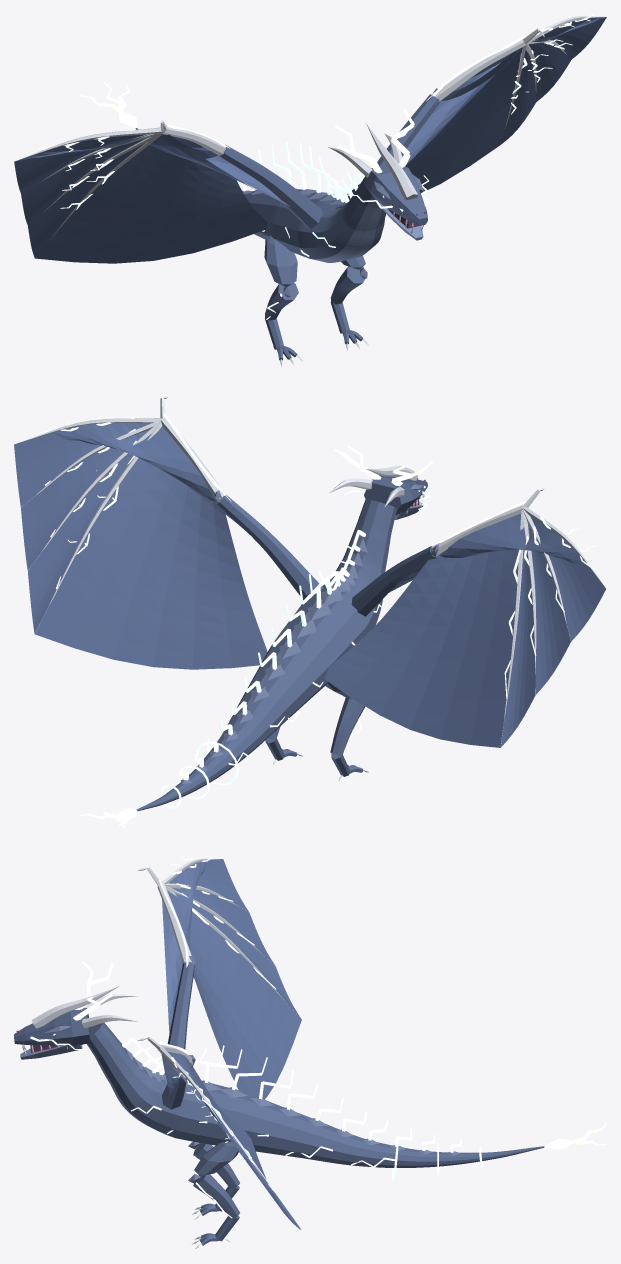
Rendered from Wyverne_Tempete_v1.glb.
3 views of the same model, one above another, from view 1: azimuth 30°, elevation 25°; view 2: azimuth 150°, elevation 25°; view 3: azimuth 270°, elevation 25° (orthographic). The views are drawn at different scales.
Visible parts, largest first — view 1: Membrane, Body, Horns, Bolt, Belly, Bolt2, Plates; view 2: Membrane, Body, Horns, Bolt, Plates, Bolt2; view 3: Body, Membrane, Horns, Bolt, Plates, Bolt2.
Boxes of the visible parts, x1=… form: Membrane: x1=14, y1=17, x2=606, y2=263; Body: x1=135, y1=94, x2=440, y2=360; Horns: x1=17, y1=16, x2=604, y2=367; Bolt: x1=39, y1=14, x2=593, y2=319; Belly: x1=311, y1=195, x2=423, y2=262; Bolt2: x1=80, y1=82, x2=414, y2=173; Plates: x1=223, y1=88, x2=439, y2=297; Membrane: x1=14, y1=423, x2=605, y2=747; Body: x1=136, y1=475, x2=437, y2=810; Horns: x1=22, y1=396, x2=605, y2=780; Bolt: x1=39, y1=413, x2=596, y2=808; Plates: x1=180, y1=484, x2=438, y2=784; Bolt2: x1=79, y1=446, x2=433, y2=827; Body: x1=14, y1=962, x2=544, y2=1245; Membrane: x1=161, y1=859, x2=301, y2=1229; Horns: x1=22, y1=858, x2=284, y2=1248; Bolt: x1=30, y1=856, x2=483, y2=1218; Plates: x1=43, y1=956, x2=459, y2=1183; Bolt2: x1=73, y1=961, x2=606, y2=1149.
Size of the model in its own units: 90.05 by 43.58 by 84.33.
